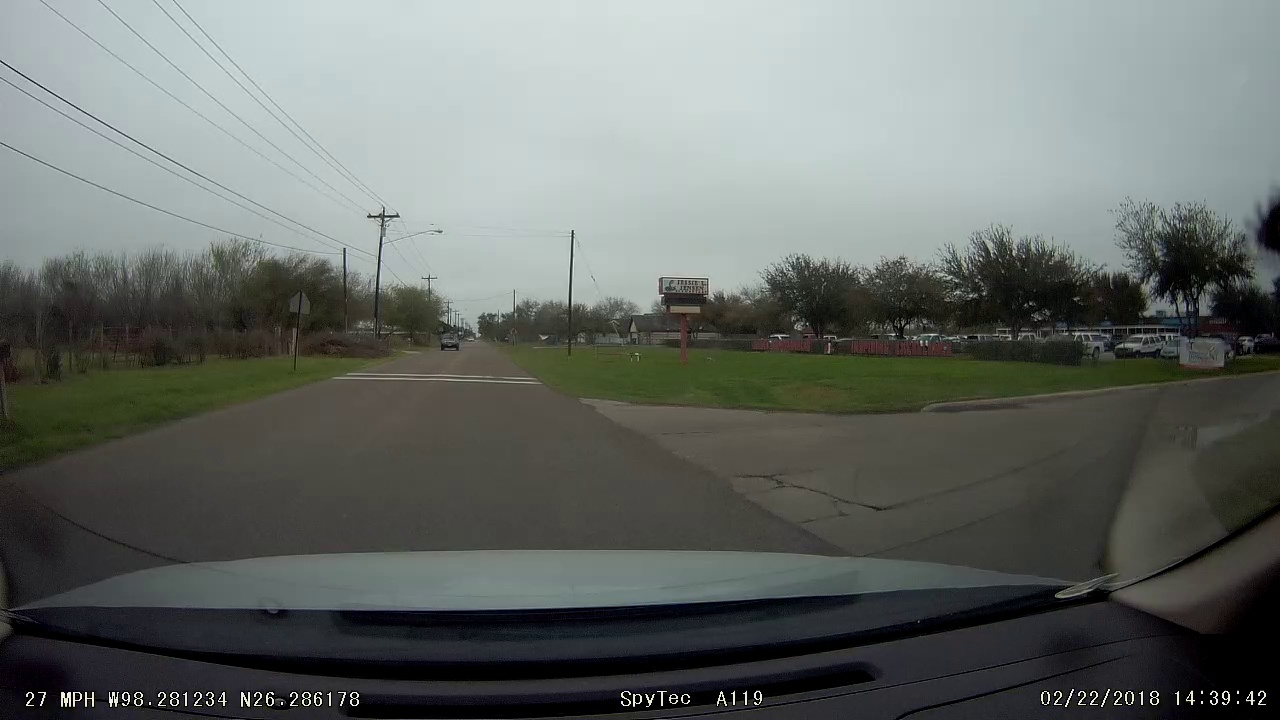crack: (717, 459, 896, 515)
